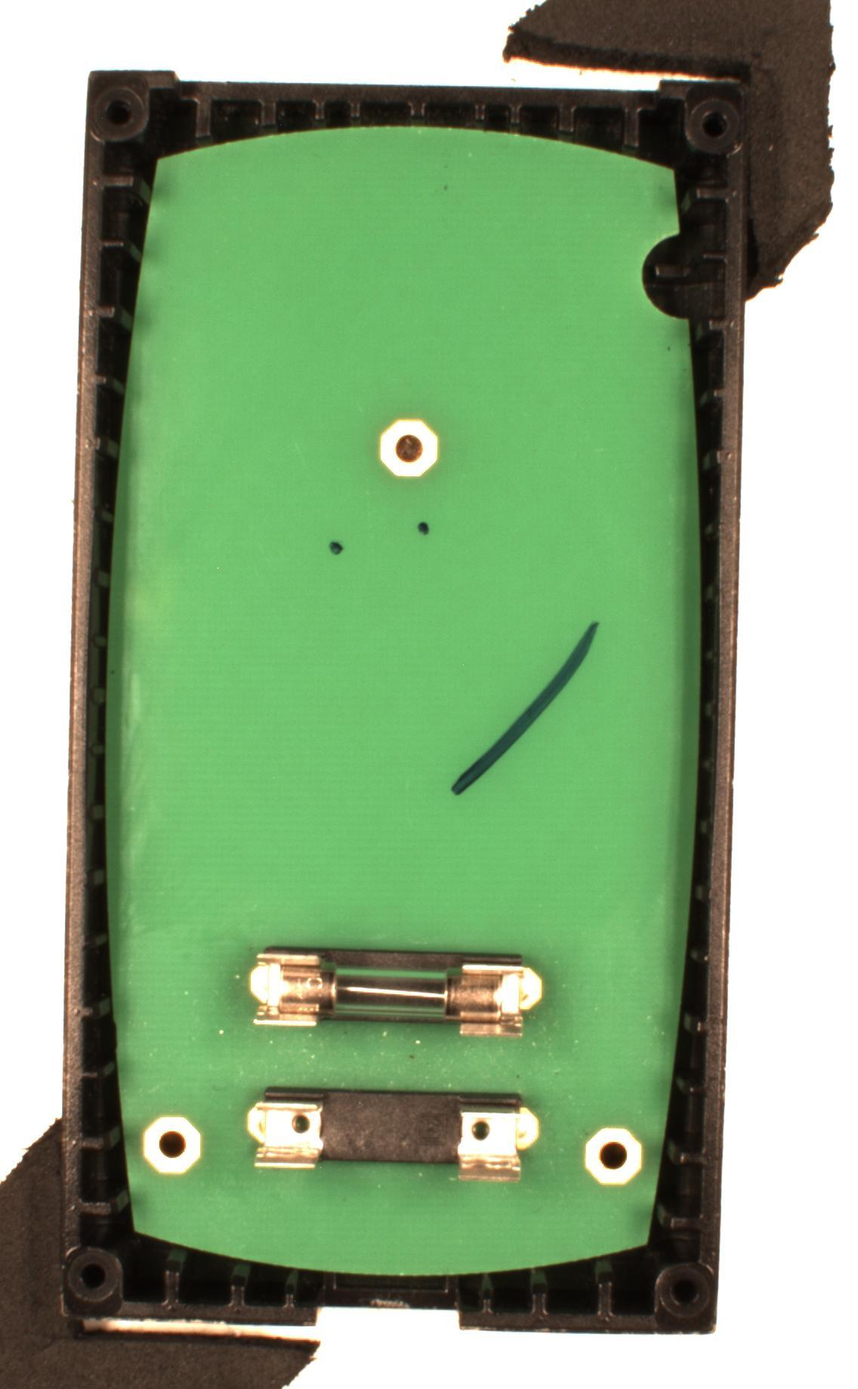Linijsko Ostecene: (447, 619, 604, 799)
Nepostojanje osiguraca: (245, 1081, 543, 1184)
Tockasto Ostecenje: (325, 536, 345, 557), (413, 518, 433, 538)
